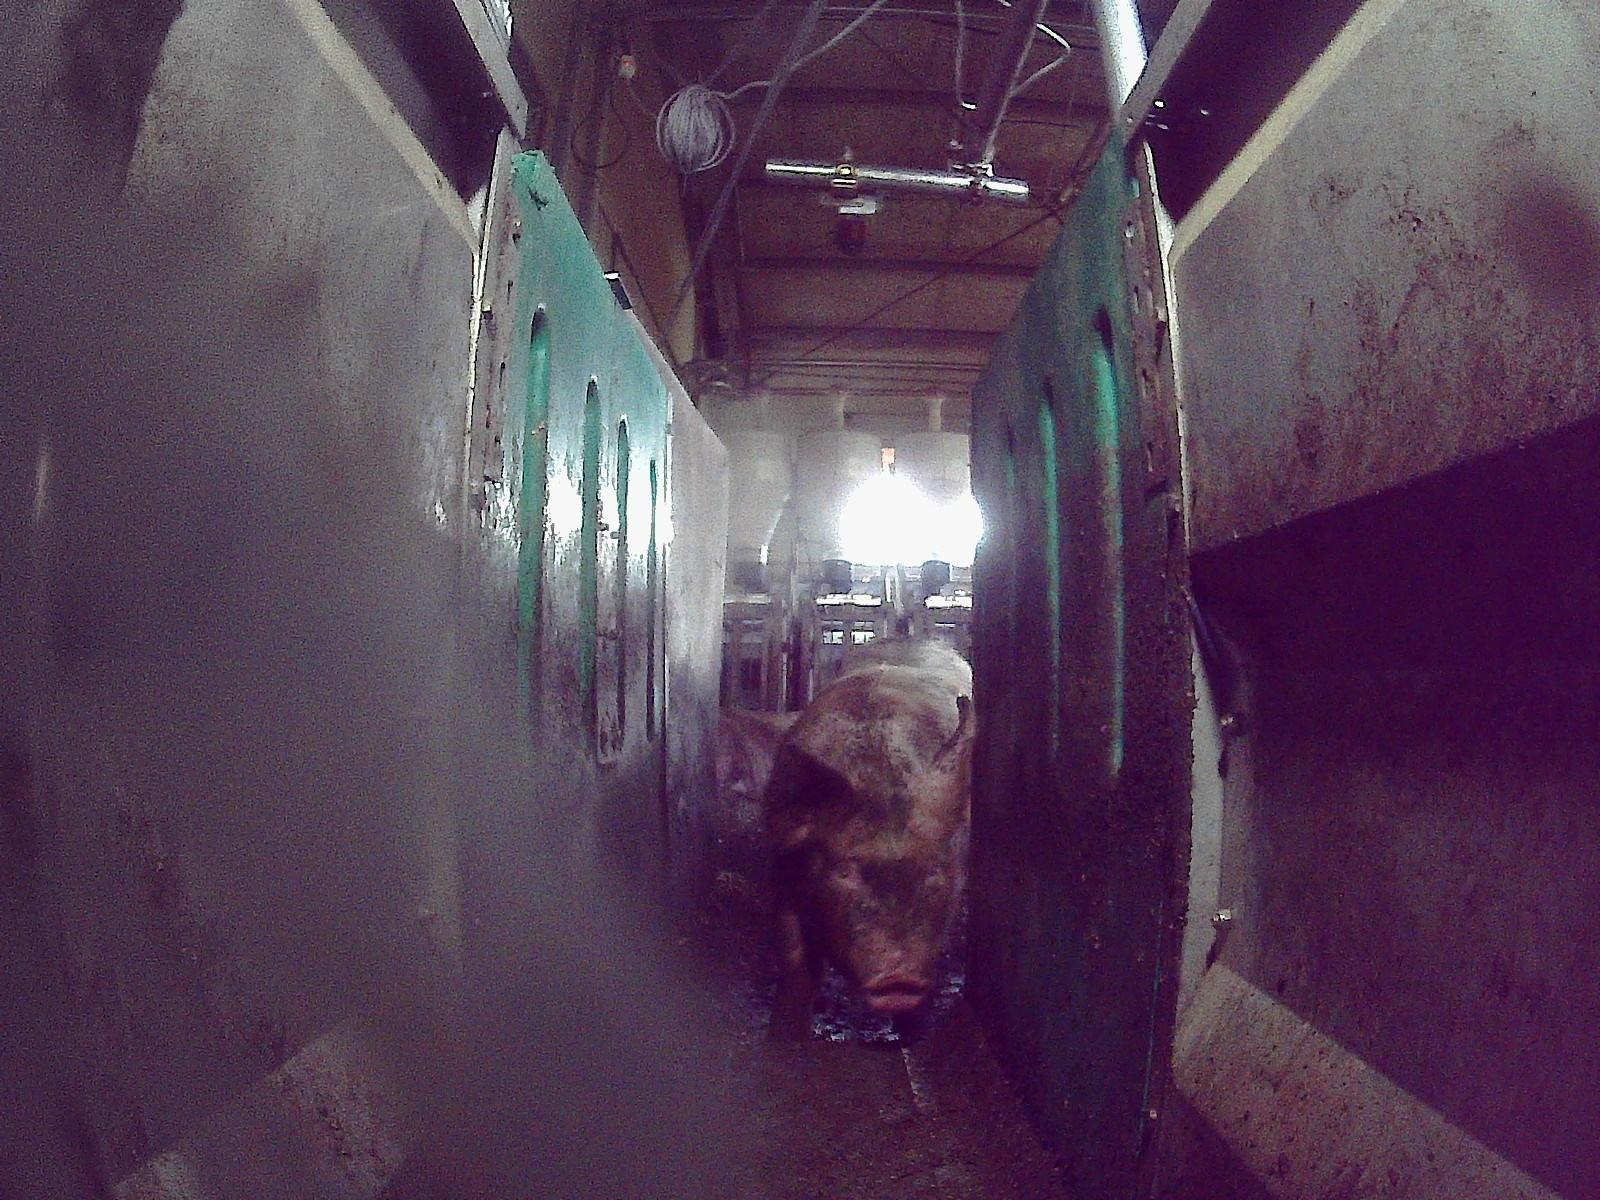Face: (811, 774, 965, 1011)
